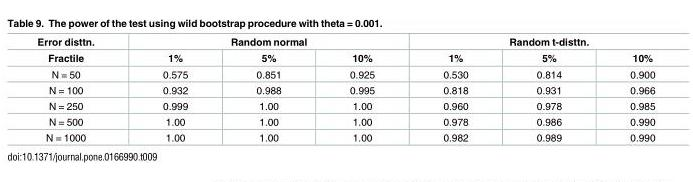table: (36, 36, 654, 142)
table column: (127, 36, 221, 142), (314, 36, 408, 142), (501, 36, 595, 142), (221, 36, 314, 142), (408, 36, 501, 142), (36, 36, 127, 142), (595, 36, 654, 142)
table column header: (36, 36, 654, 66)
table row: (36, 50, 654, 66), (36, 66, 654, 82), (36, 82, 654, 98), (36, 98, 654, 114), (36, 114, 654, 129), (36, 36, 654, 50), (36, 129, 654, 142)
table spanning cell: (127, 36, 408, 50), (408, 36, 654, 50), (36, 36, 127, 66)
